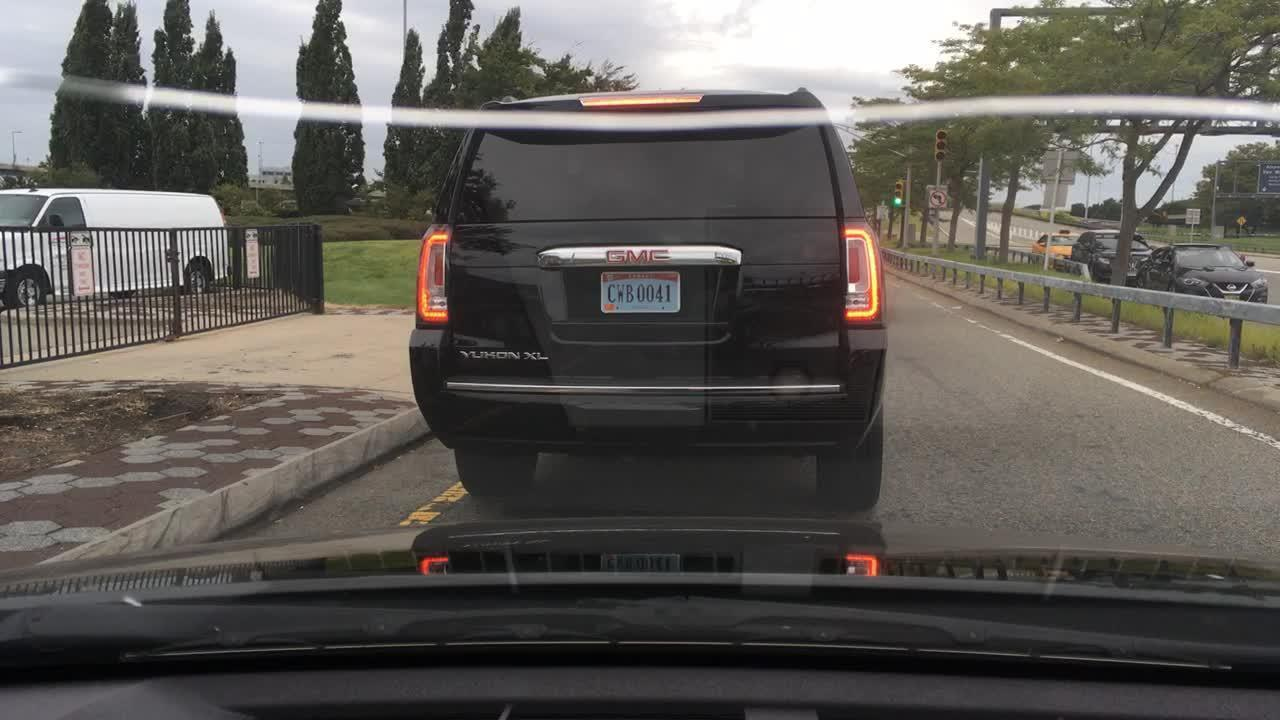GMC: (594, 239, 668, 269)
